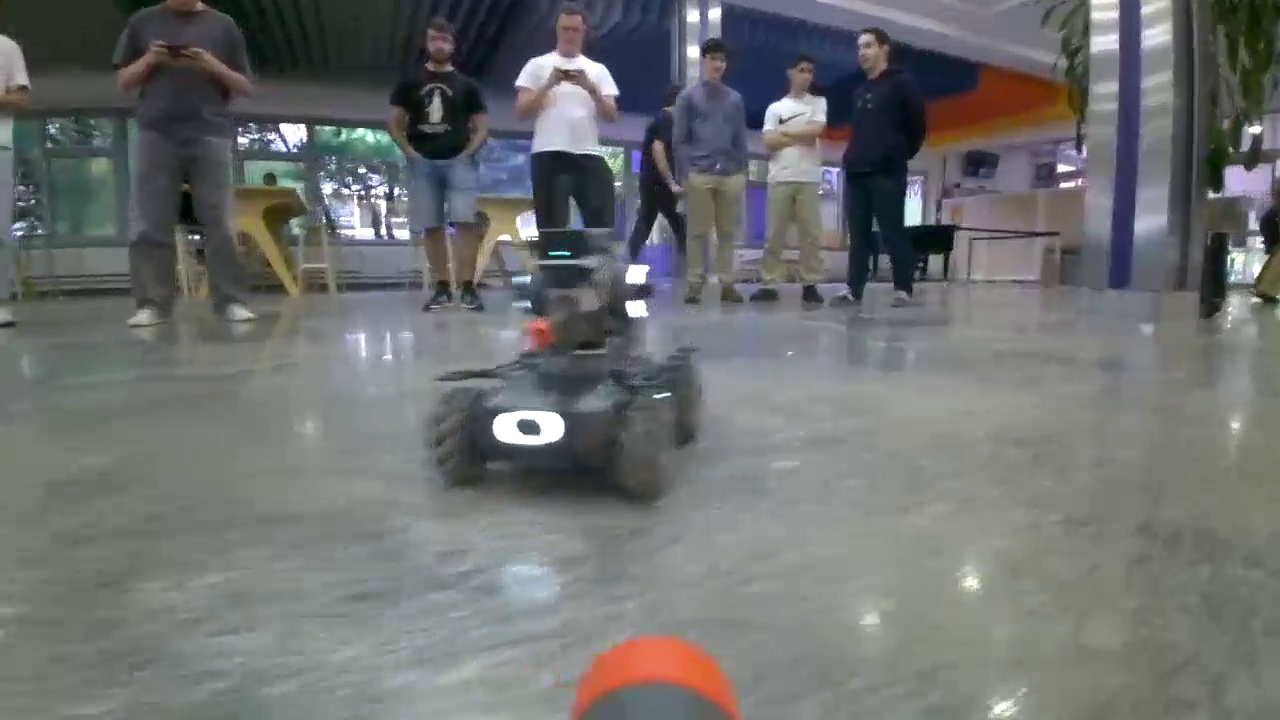robot: (435, 230, 706, 504)
